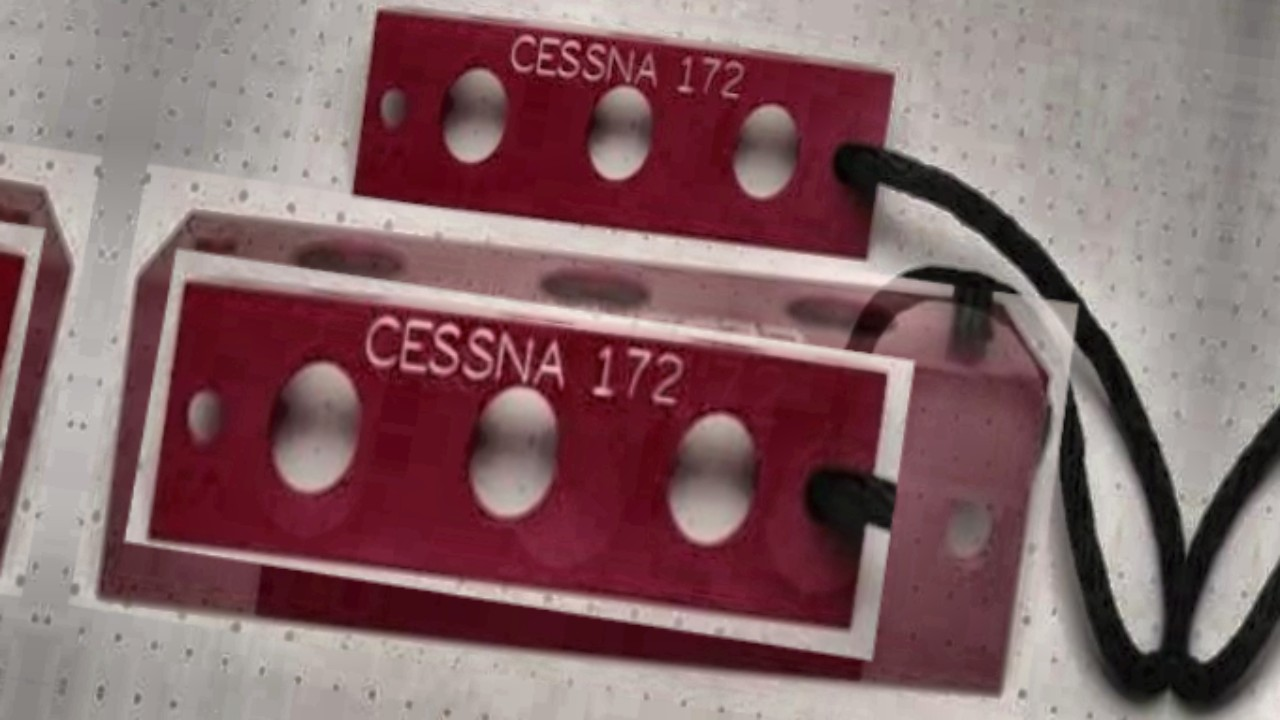chock: (63, 150, 1088, 720), (120, 238, 918, 668), (235, 315, 919, 720), (334, 0, 917, 290)
